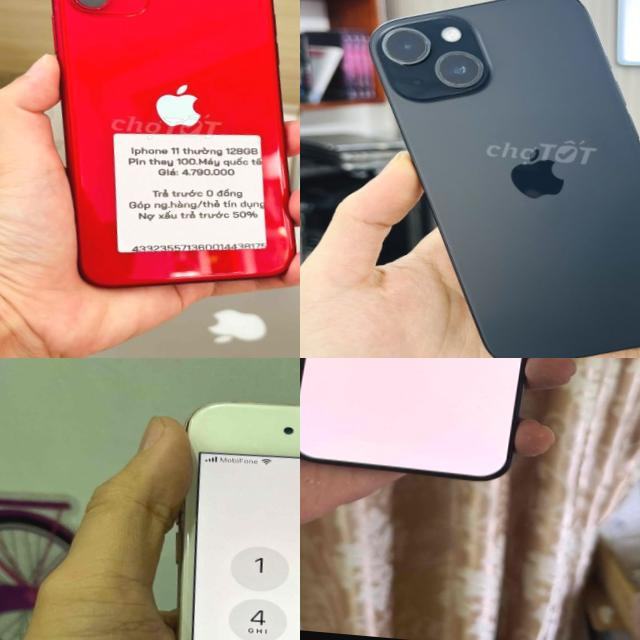gen_11: (7, 0, 300, 299)
gen_15: (329, 0, 640, 358), (300, 358, 575, 501)
gen_7_8: (138, 386, 300, 640)
physical_damage: (180, 395, 202, 435)
scratch: (372, 16, 494, 92), (148, 246, 261, 285), (59, 0, 115, 16)
